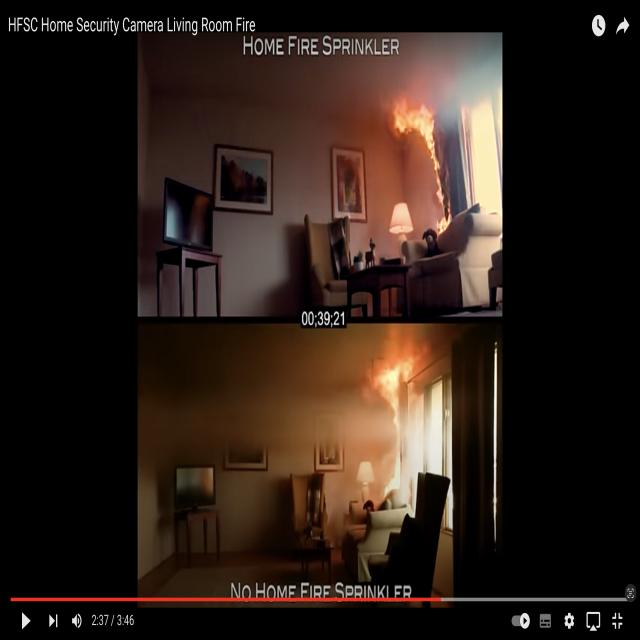Fogo: (380, 80, 486, 258), (355, 332, 449, 509)
